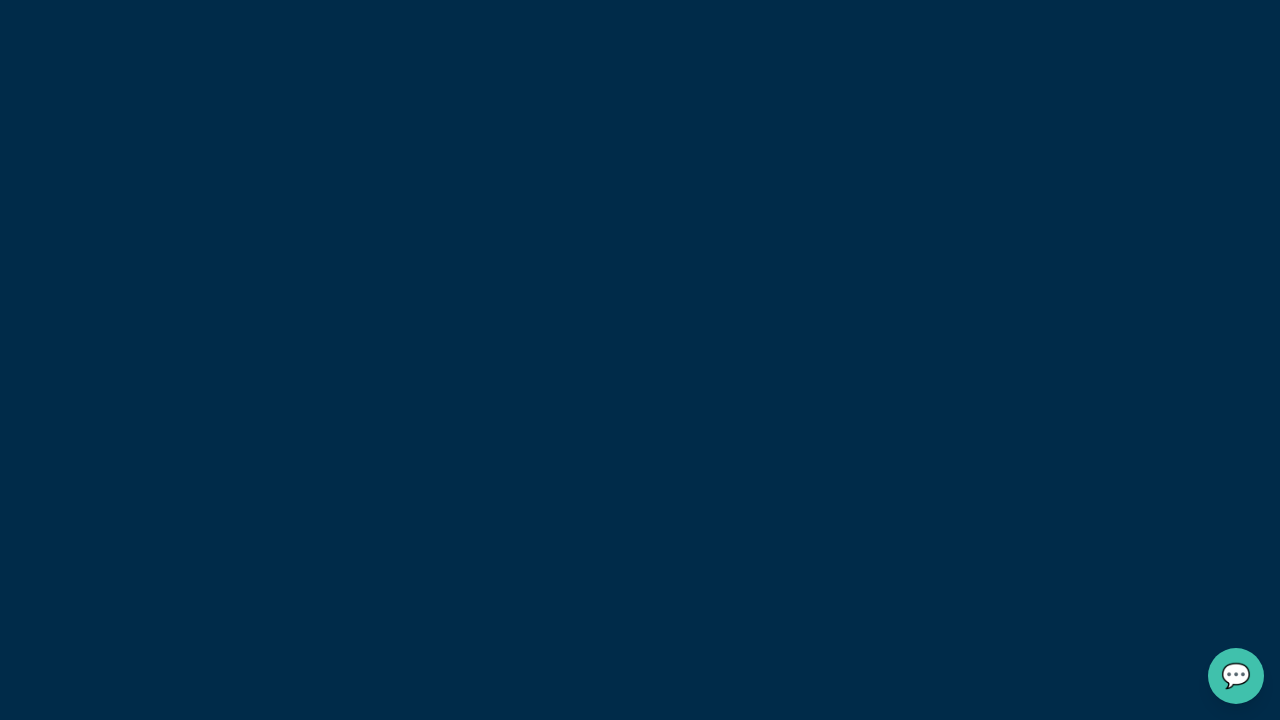
Scenario: ChatWidget › shows the required AI disclosure banner the first time it is opened
This screenshot has width=1280, height=720.
Click the button named "open chat".
click(1236, 676)  # box [1208, 648, 1264, 704]
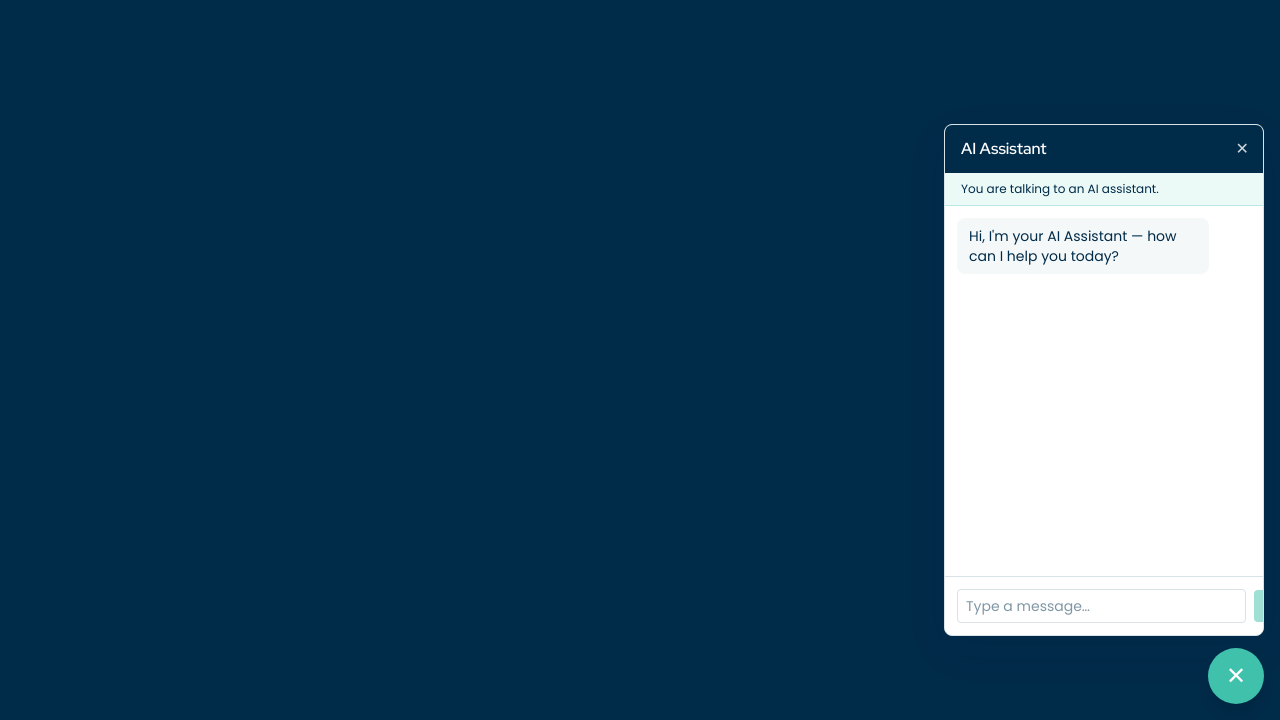
Result: the message with test id "chat-disclosure-banner" shows "You are talking to an AI assistant" at [961, 180, 1159, 197]
